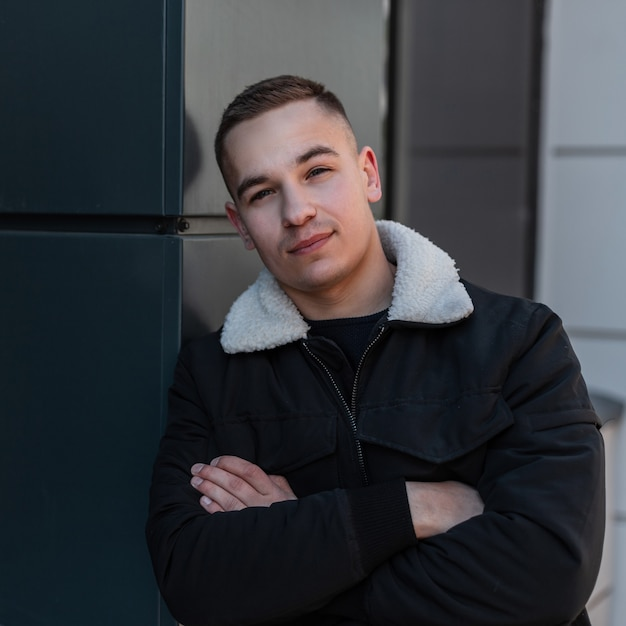young: (214, 86, 387, 296)
